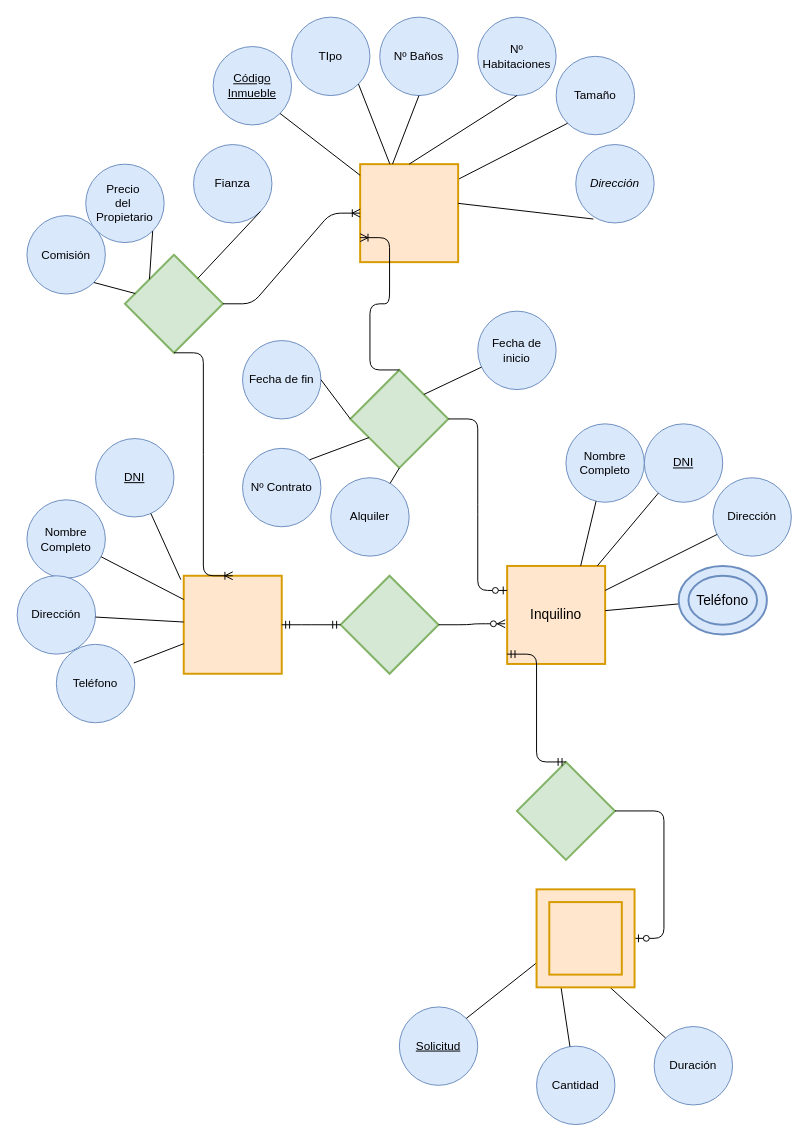
This 809x1142 diagram has some shape labels left out. Each missing label, with the centre of its shape:
"Avala" goes at [389,624].
"Ayuda" goes at [585,938].
"Contrata" goes at [399,418].
"Inmueble" goes at [409,213].
"Pone en Alquiler" goes at [173,303].
"Propietario" goes at [232,624].
"Solicita" goes at [565,810].
